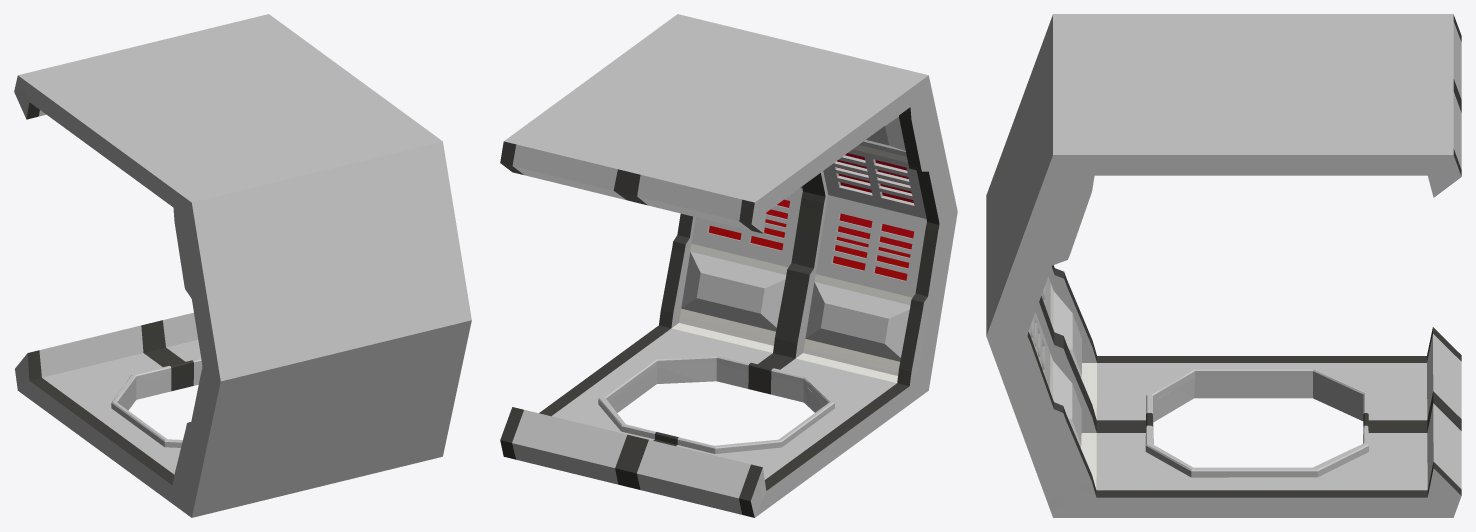
File: BottomHallwayHole.fbx
The picture shows the model from 3 angles, left to right: view 1: azimuth 30°, elevation 25°; view 2: azimuth 150°, elevation 25°; view 3: azimuth 270°, elevation 25°; orthographic projection. The views are drawn at different scales.
Visible parts, largest first — view 1: Hallway_Bottom_Hole; view 2: Hallway_Bottom_Hole; view 3: Hallway_Bottom_Hole.
Boxes of the visible parts, x1,y1,x2,y2 form: Hallway_Bottom_Hole: [14, 14, 471, 517]; Hallway_Bottom_Hole: [500, 14, 957, 517]; Hallway_Bottom_Hole: [986, 14, 1461, 517].
Size of the model in its own units: 4.38 by 5.25 by 6.23.
